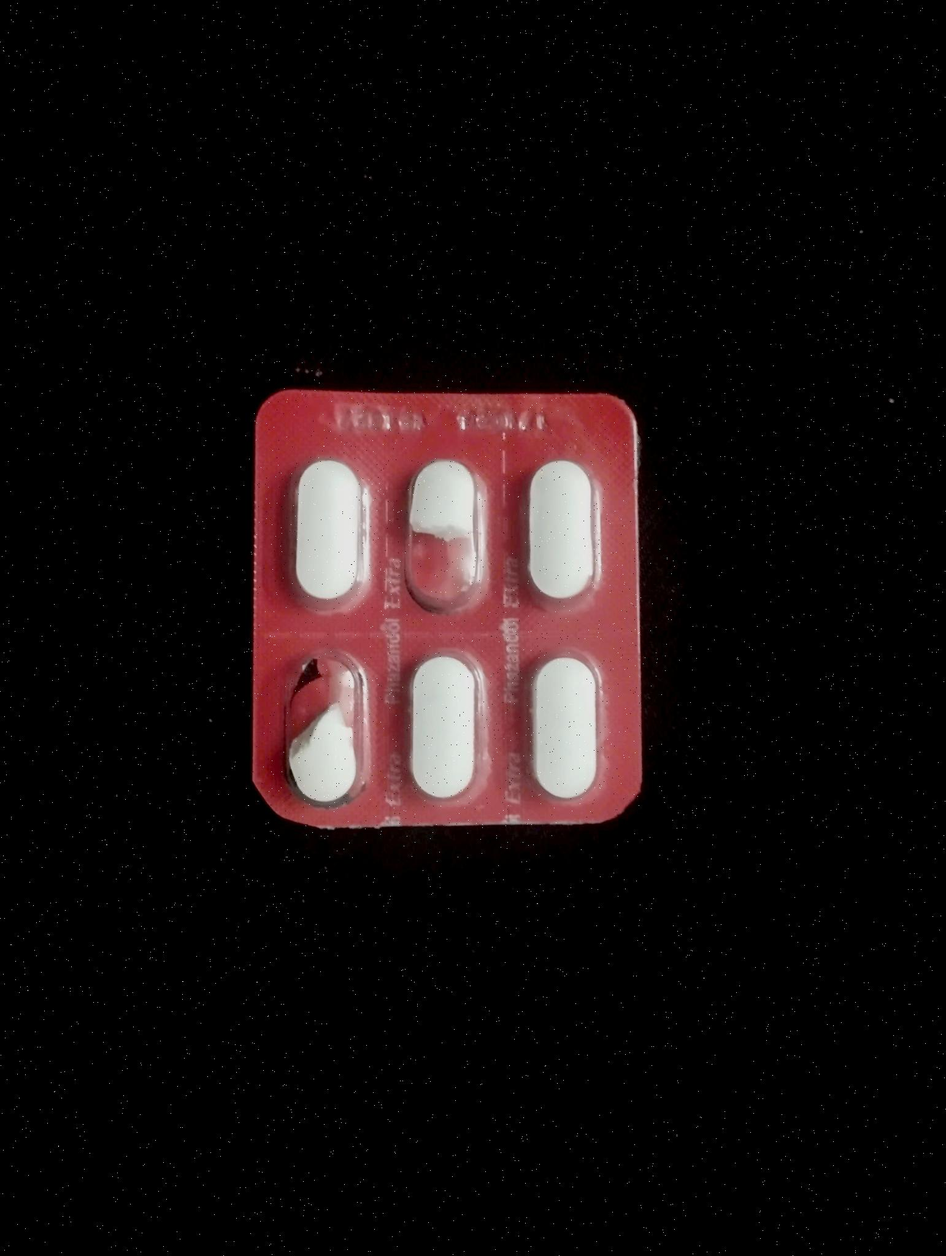Full: (402, 638, 485, 801), (526, 643, 605, 809), (523, 450, 606, 597), (285, 462, 362, 607)
Partial: (277, 654, 373, 816), (399, 458, 488, 613)
